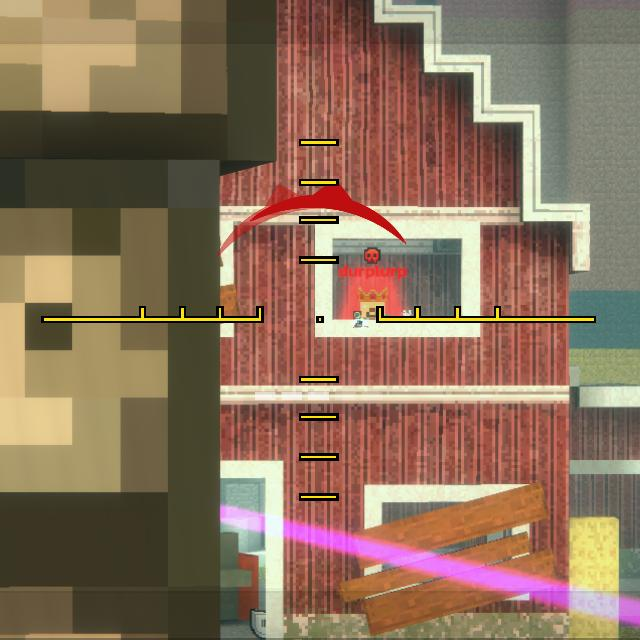Enemy: (349, 290, 401, 328)
